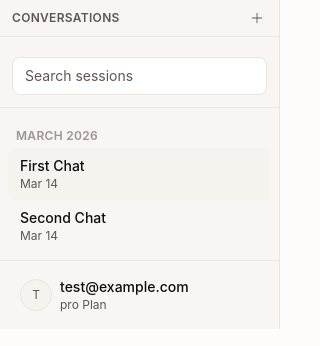
Test: SessionSidebar › context menu contains Rename option
The width and height of the screenshot is (320, 346).
Hover over the element with test id "session-item-session-1".
mouse_move(140, 174)  # box [8,148,271,200]
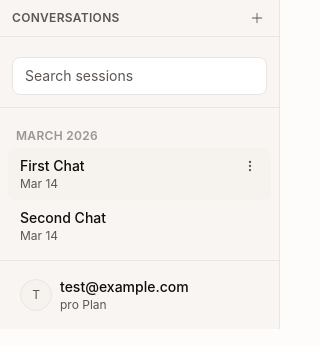
Click the button with test id "session-menu-trigger".
click(250, 166)  # box [241,157,259,175]
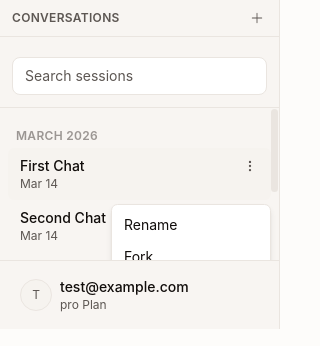
Now the button "Rename" is shown, box [124,216,178,233]
